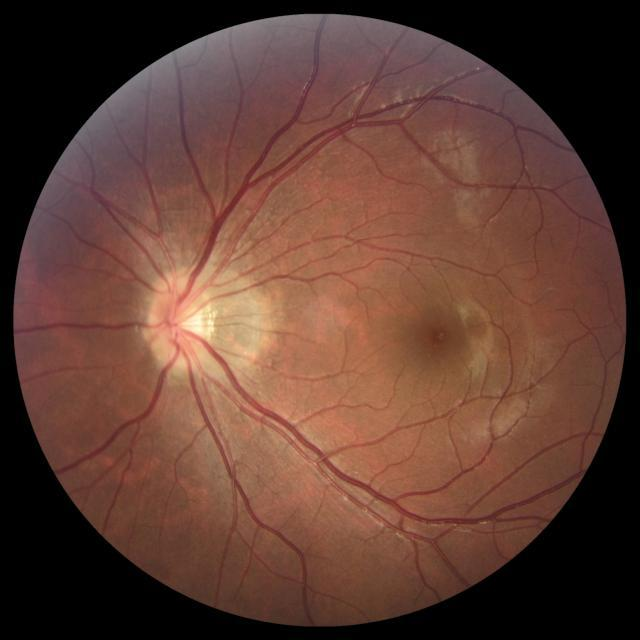OC: (170, 310, 202, 336)
OD: (146, 274, 217, 372)
